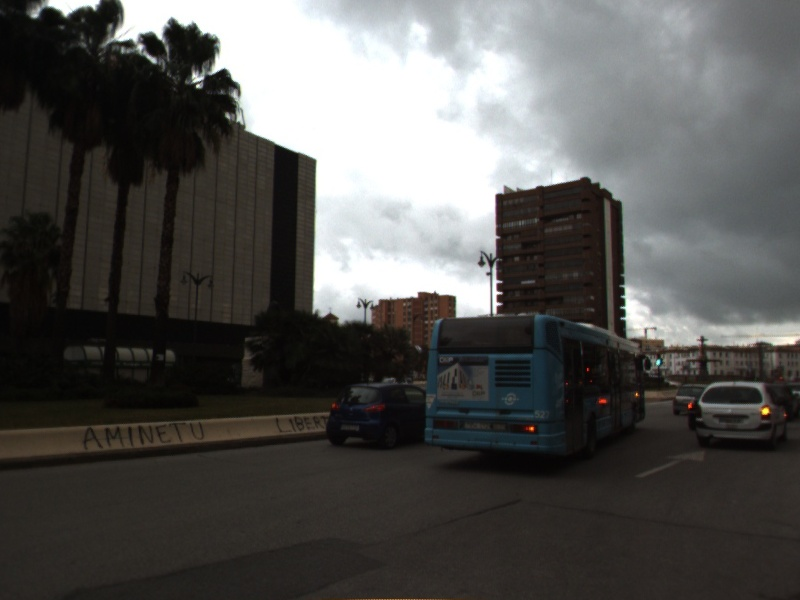STRAIGHT: (633, 448, 708, 480)
